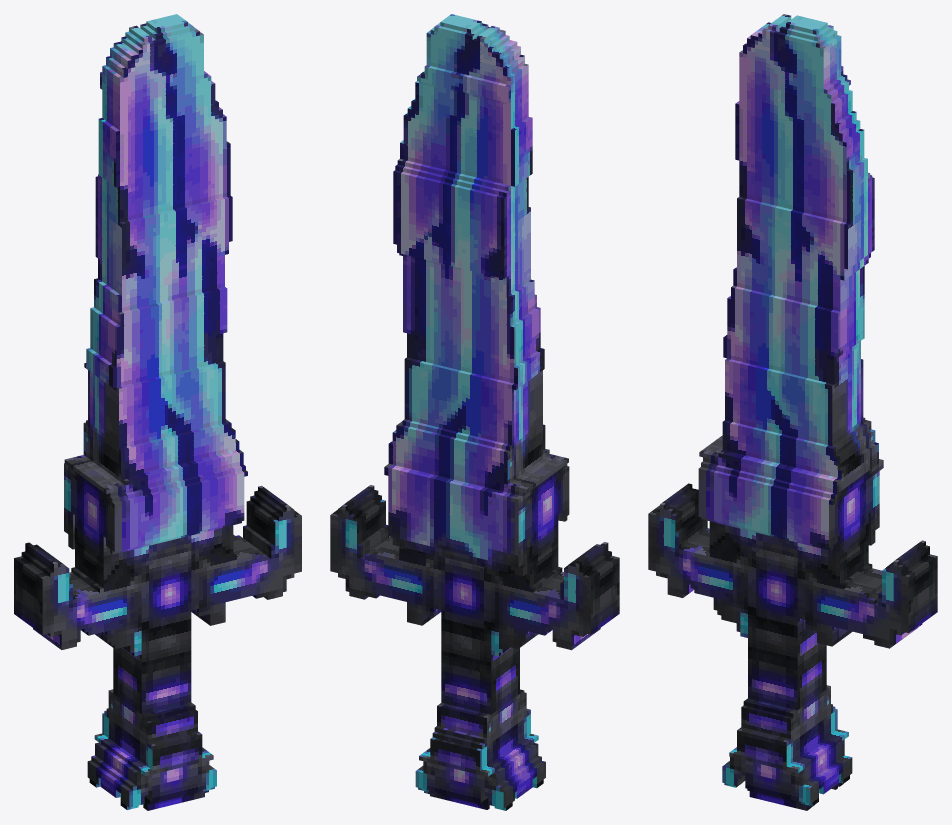
File: relic-phase-blade.glb
3 renders of one model, left to right at view 1: azimuth 30°, elevation 25°; view 2: azimuth 150°, elevation 25°; view 3: azimuth 330°, elevation 25°, orthographic.
Visible parts, largest first — view 1: relic-phase-blade_voxels; view 2: relic-phase-blade_voxels; view 3: relic-phase-blade_voxels.
Boxes of the visible parts, x1=… form: relic-phase-blade_voxels: x1=14, y1=14, x2=301, y2=810; relic-phase-blade_voxels: x1=330, y1=14, x2=619, y2=810; relic-phase-blade_voxels: x1=648, y1=14, x2=937, y2=810.
Size of the model in its own units: 0.3542 by 1 by 0.1198.
1 material, 1 textured.
